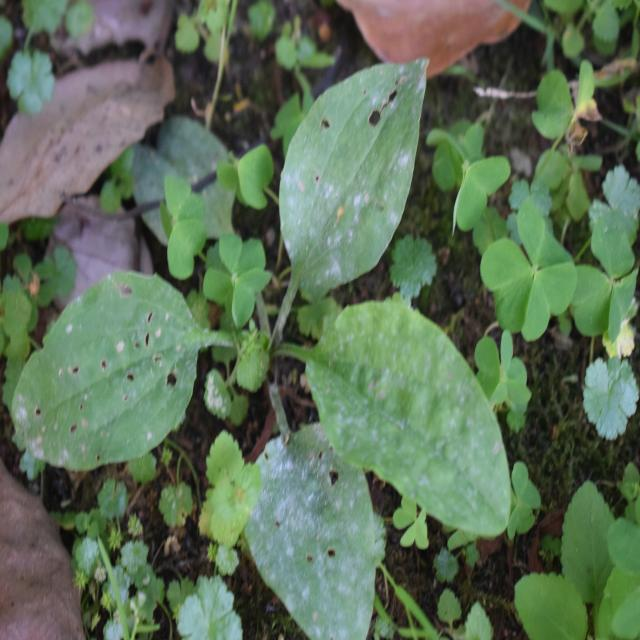plantain: (67, 64, 497, 606)
